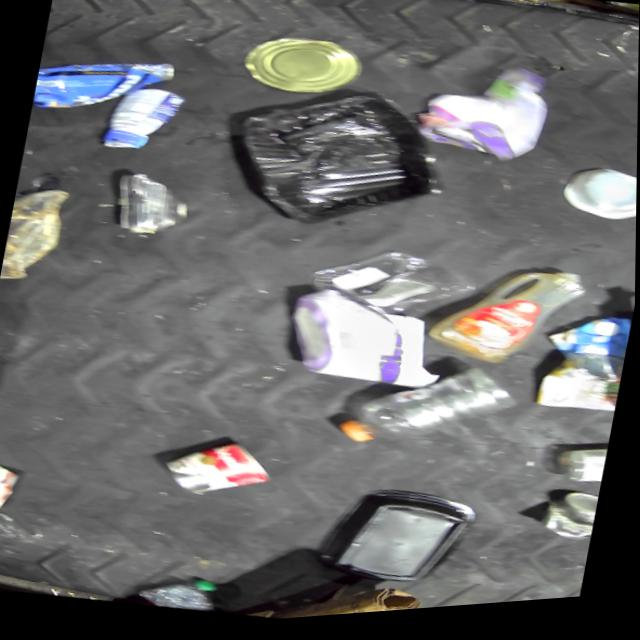can: (238, 29, 364, 110), (160, 431, 279, 512), (106, 167, 194, 245), (536, 353, 625, 427), (539, 495, 600, 553), (0, 451, 22, 514)
non_white_jug: (423, 256, 590, 389), (281, 282, 455, 406), (408, 56, 556, 181), (30, 42, 175, 131), (541, 314, 632, 399)
plastic_bottle: (334, 348, 524, 474), (138, 571, 224, 620)
